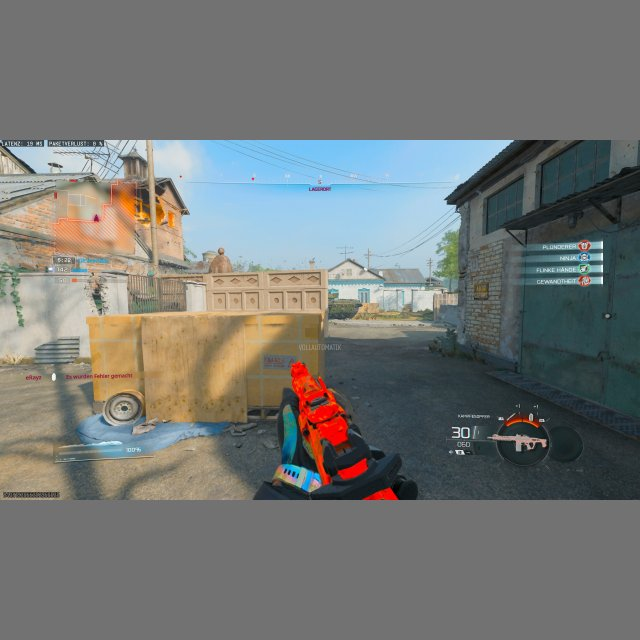head: (89, 273, 95, 279)
player: (84, 273, 106, 315)
